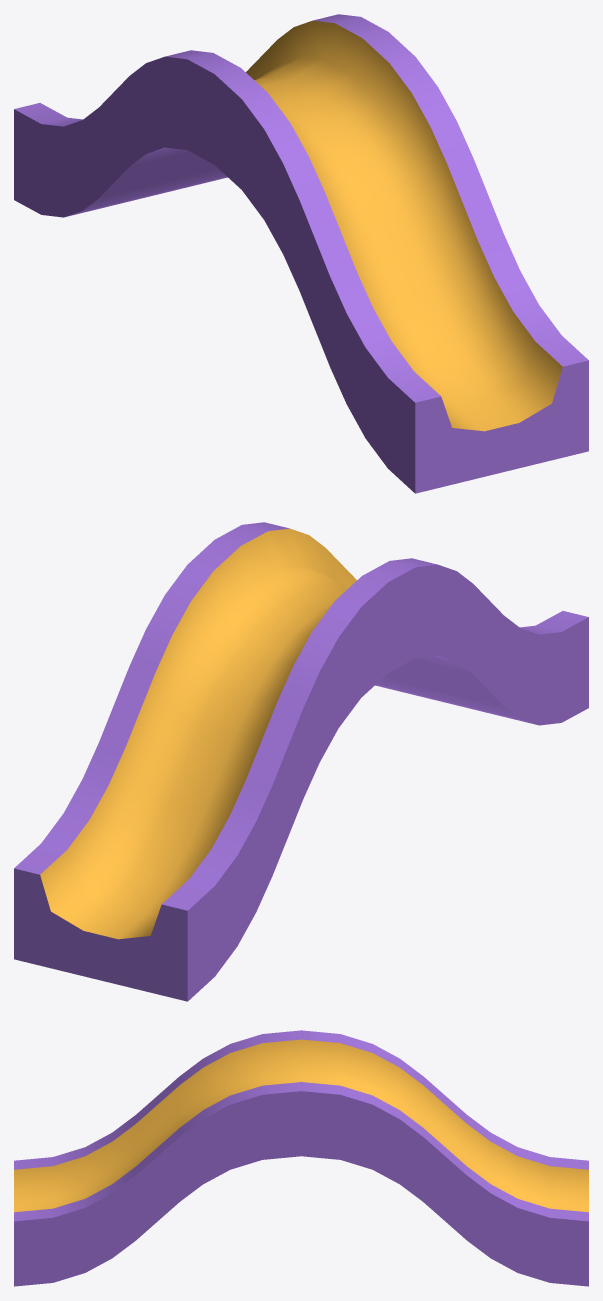
File: bump-c.glb
3 renders of one model, top to bottom at view 1: azimuth 30°, elevation 25°; view 2: azimuth 150°, elevation 25°; view 3: azimuth 270°, elevation 25°, orthographic. The views are drawn at different scales.
Parts seen in each view (by area): view 1: bump-c; view 2: bump-c; view 3: bump-c.
Boxes of the visible parts, x1,y1,x2,y2 form: bump-c: (14,14,588,493); bump-c: (14,522,588,1001); bump-c: (14,1030,588,1286).
Size of the model in its own units: 1 by 1.5 by 4.
1 material, 1 textured.
